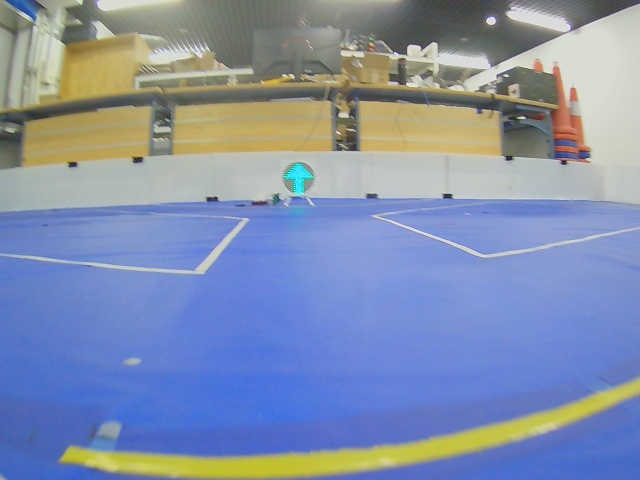straight_green: (282, 162, 315, 195)
